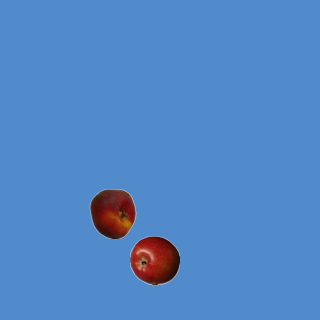Apple Braeburn: (129, 235, 179, 285)
Nectarine Flat: (87, 188, 137, 238)
